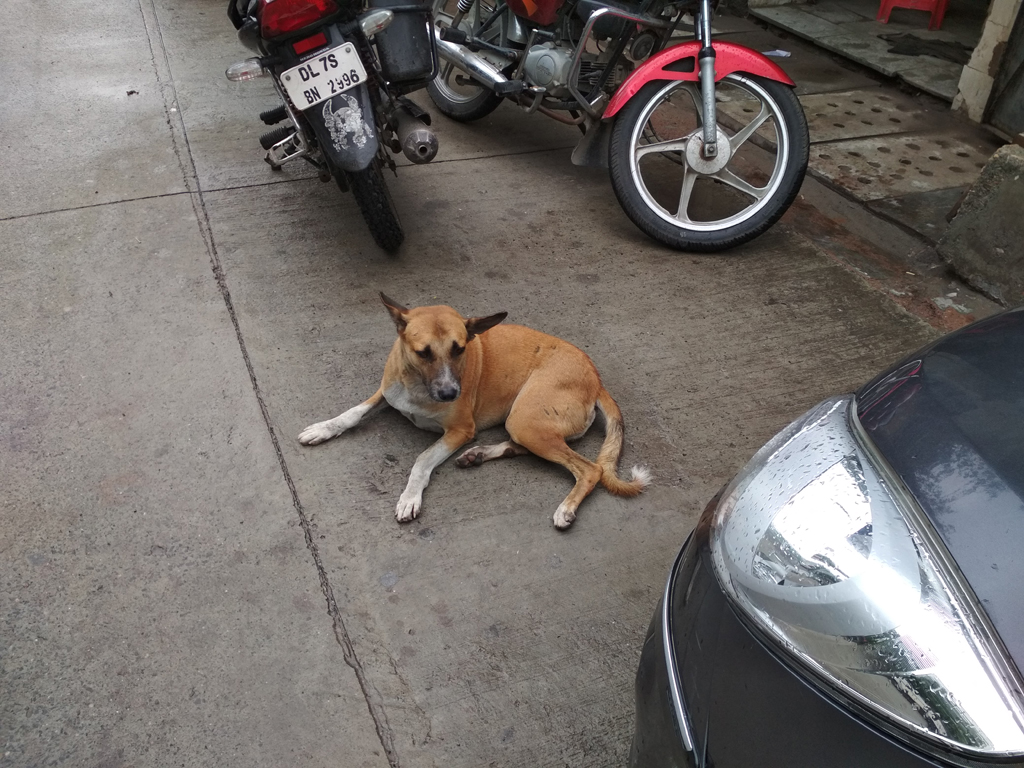dog: (297, 292, 655, 530)
